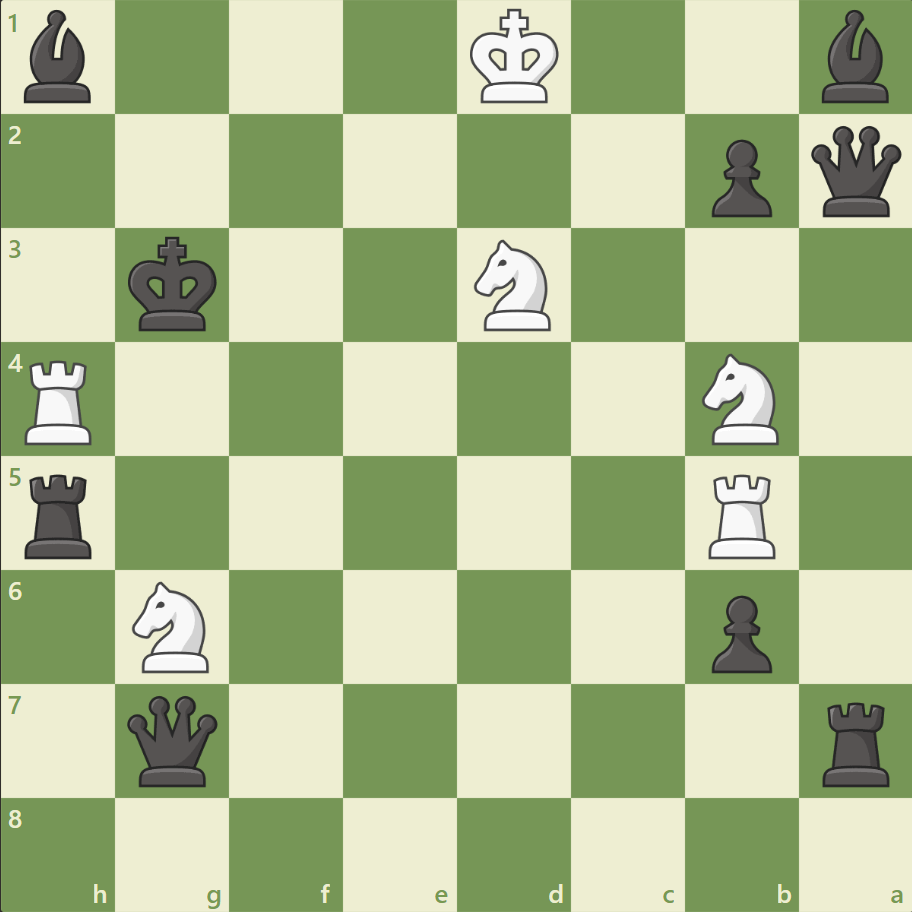K: (465, 4, 565, 112)
N: (124, 575, 222, 677), (465, 234, 562, 337), (692, 348, 789, 450)
R: (700, 466, 783, 563), (19, 352, 102, 449)
b: (812, 6, 896, 109), (17, 6, 101, 109)
k: (124, 231, 224, 339)
p: (701, 586, 776, 677), (701, 132, 776, 223)
q: (805, 122, 904, 222), (124, 690, 223, 789)
r: (814, 693, 897, 790), (19, 466, 102, 563)
